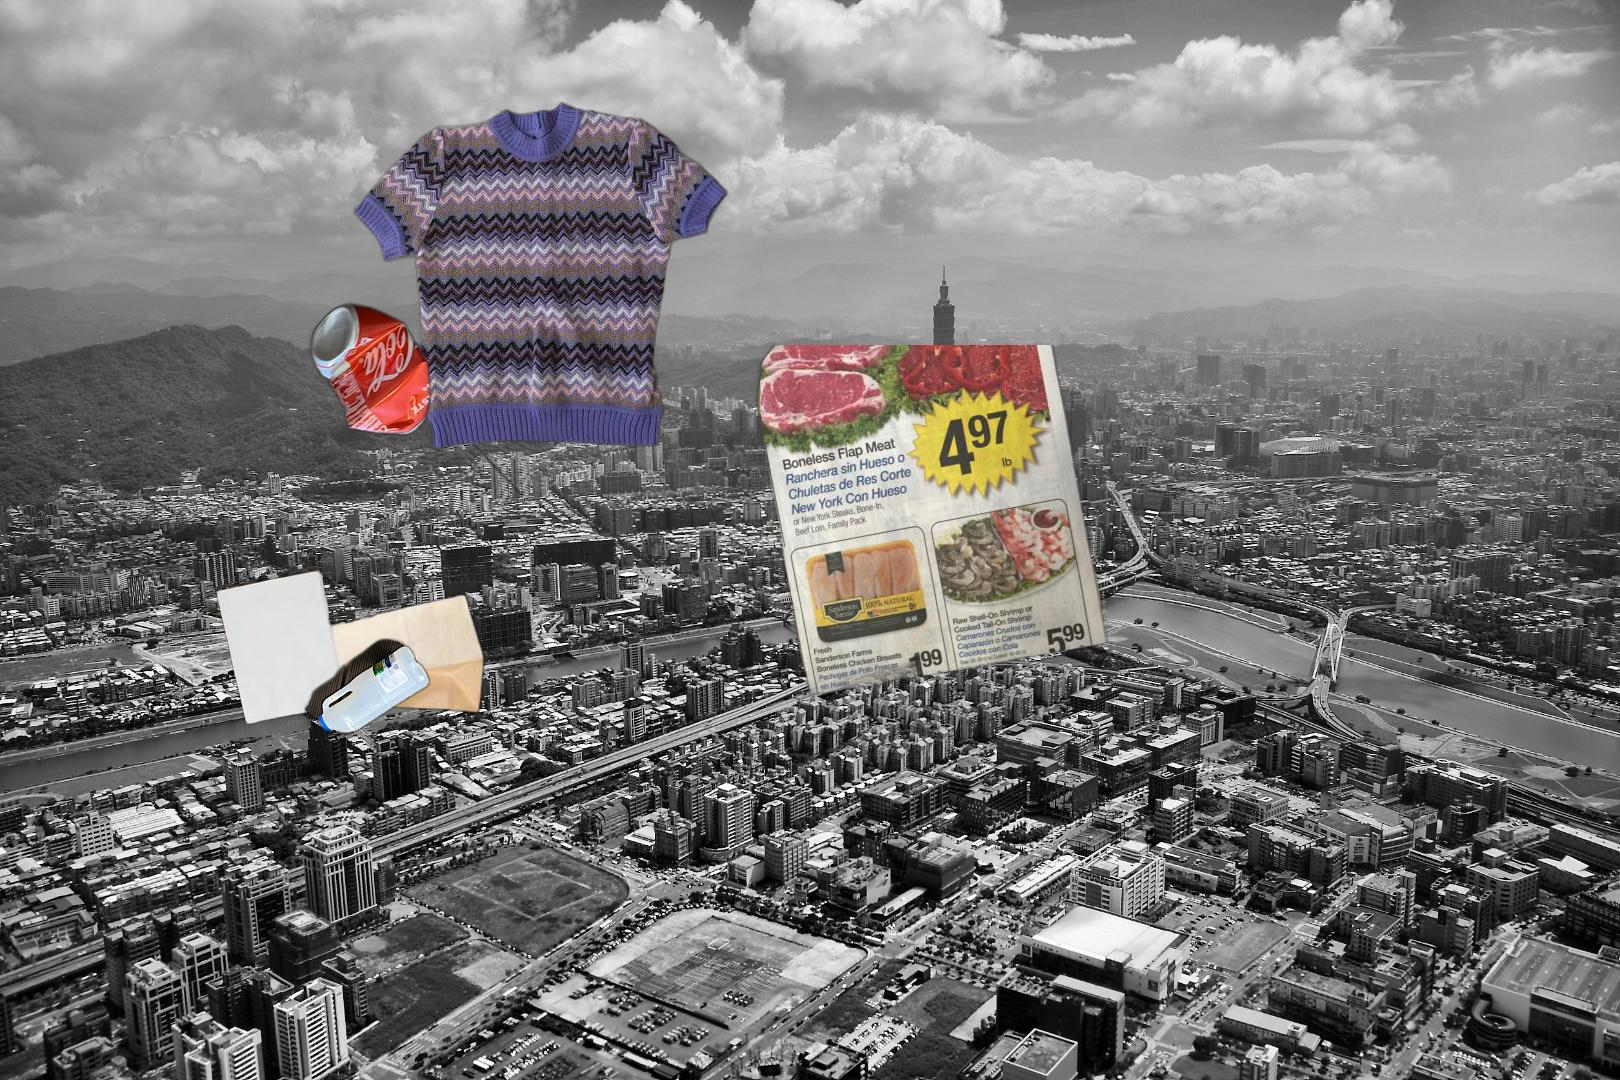clothes: (353, 98, 730, 495)
metal-cans: (306, 298, 436, 440)
paper: (710, 345, 1113, 714)
paper-bag: (215, 565, 487, 726)
plastic-bottles: (301, 632, 435, 740)
